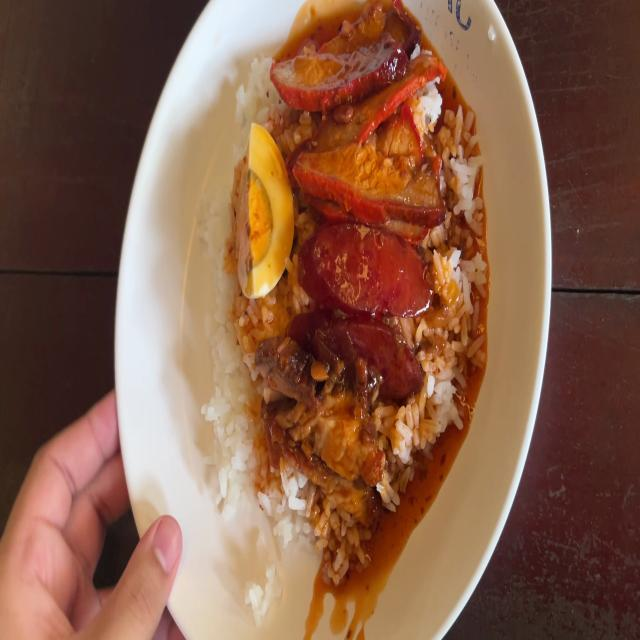red_pork_and_crispy_pork: (238, 142, 286, 296)
stir_fried_basil: (307, 231, 430, 380)
